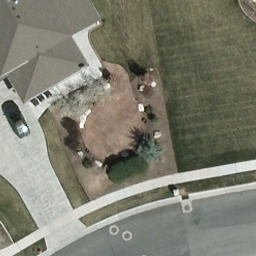car: (1, 99, 32, 140)
